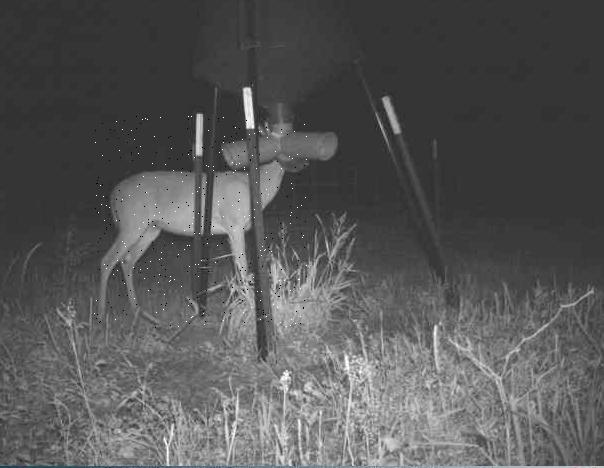Deer: (94, 116, 307, 328)
